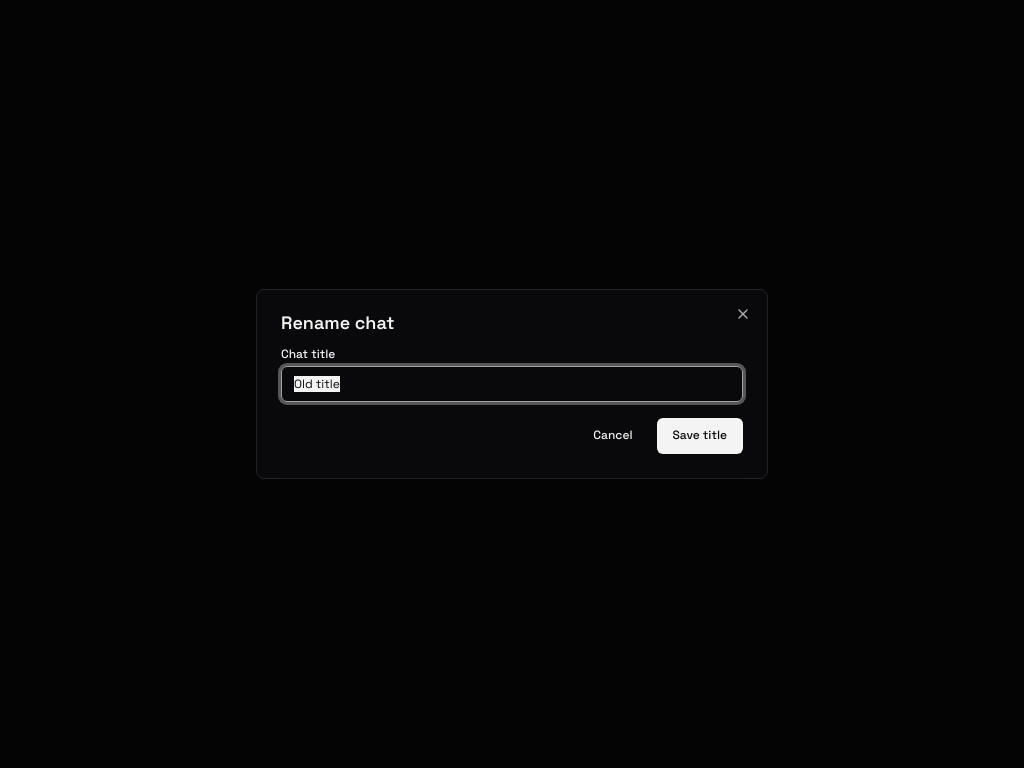
Test: a chat dialog shows the server's message as a form error and stays open
Click the button "Save title" at [700, 436], box x1=656 y1=418 x2=743 y2=454
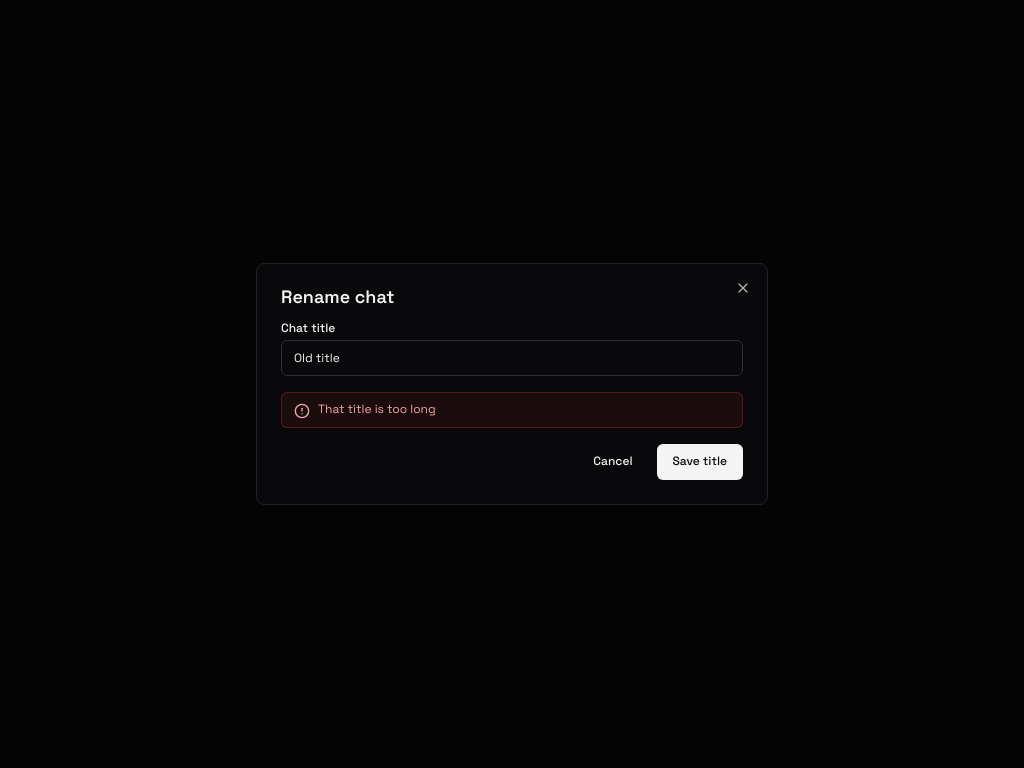
Expected: the dialog "Rename chat" is shown, x1=256 y1=263 x2=768 y2=505
Expected: the message reads "That title is too long", x1=318 y1=401 x2=436 y2=417
